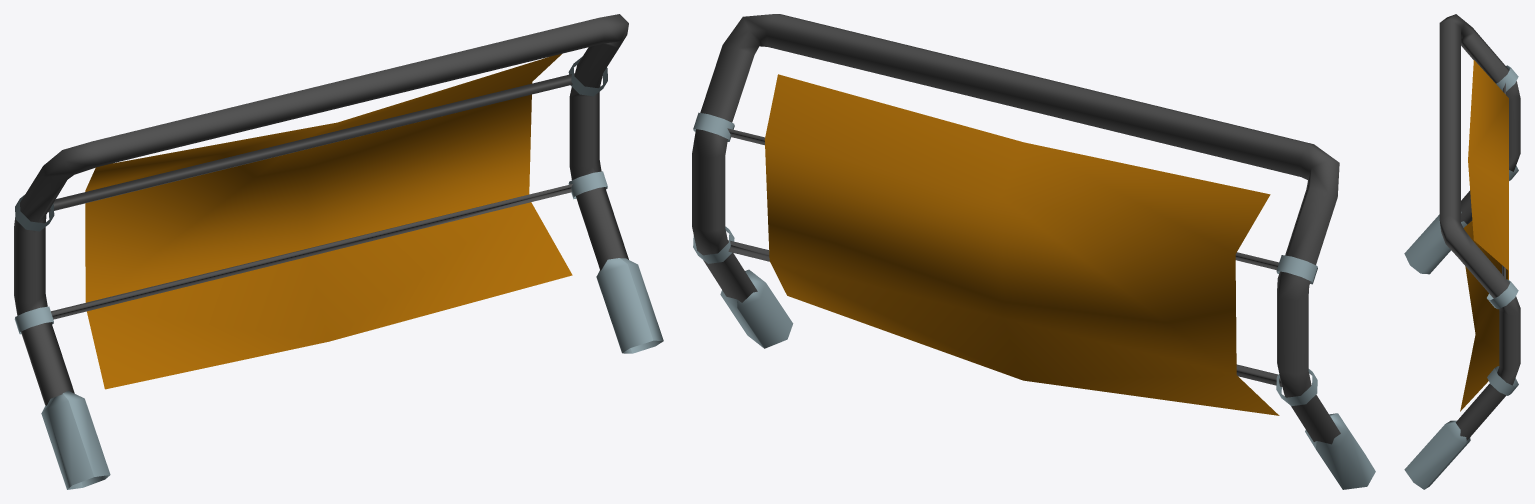
Rendered from env_building_warehouse01fence02A_lod2.fbx.
3 renders of one model, left to right at view 1: azimuth 30°, elevation 25°; view 2: azimuth 150°, elevation 25°; view 3: azimuth 270°, elevation 25°, orthographic. The views are drawn at different scales.
Parts seen in each view (by area): view 1: env_building_warehouse01_fence02A_lod2; view 2: env_building_warehouse01_fence02A_lod2; view 3: env_building_warehouse01_fence02A_lod2.
Part boxes in pixels (box(x1,y1,x2,y2)): env_building_warehouse01_fence02A_lod2: box(14, 14, 663, 489); env_building_warehouse01_fence02A_lod2: box(692, 14, 1375, 489); env_building_warehouse01_fence02A_lod2: box(1404, 14, 1520, 489).
Size of the model in its own units: 61.65 by 33.09 by 13.26.
